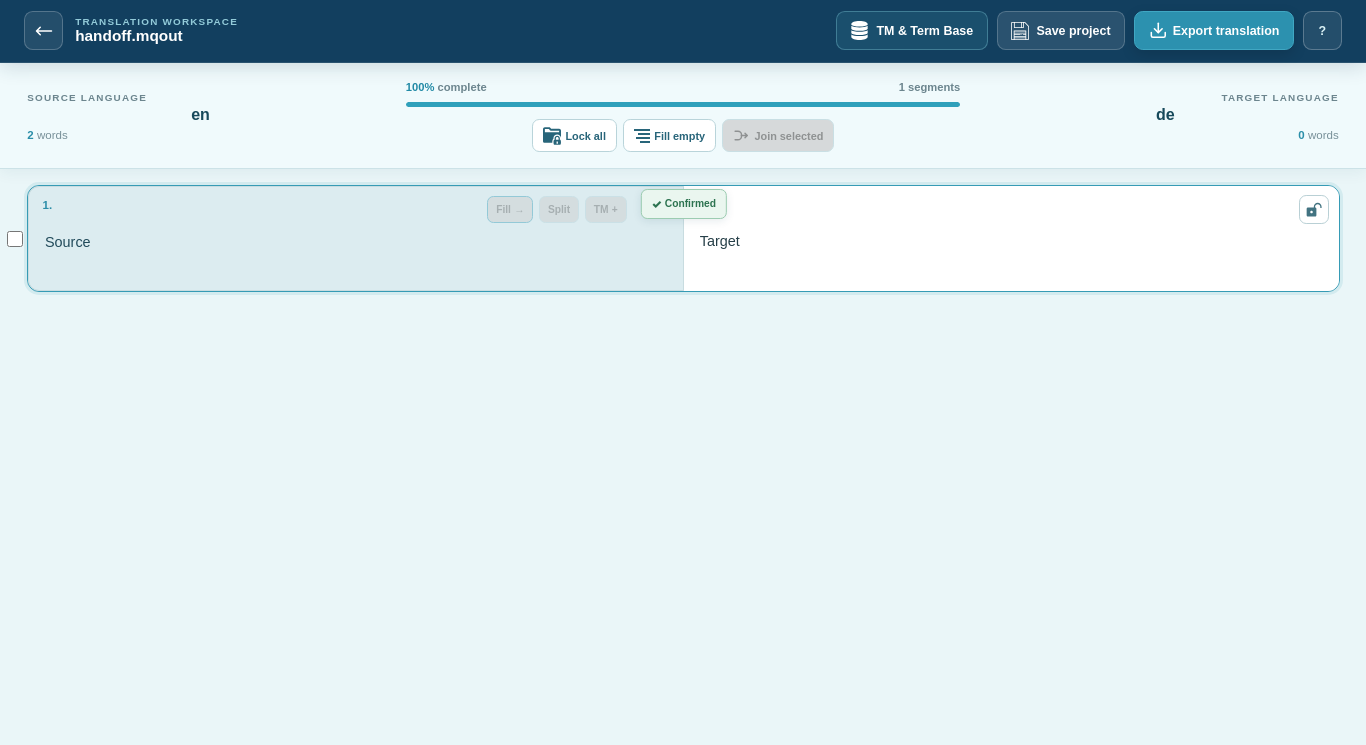
Test case: real CAT application route › shows the actual CAT return-package artifact in the export modal
The image size is (1366, 745).
Check: the element showing "Fill → Split TM + 1. Source Confirmed" is shown, box [27,185,1341,292]
Click the button "Export translation".
click(1214, 31)  # box [1134,11,1294,50]
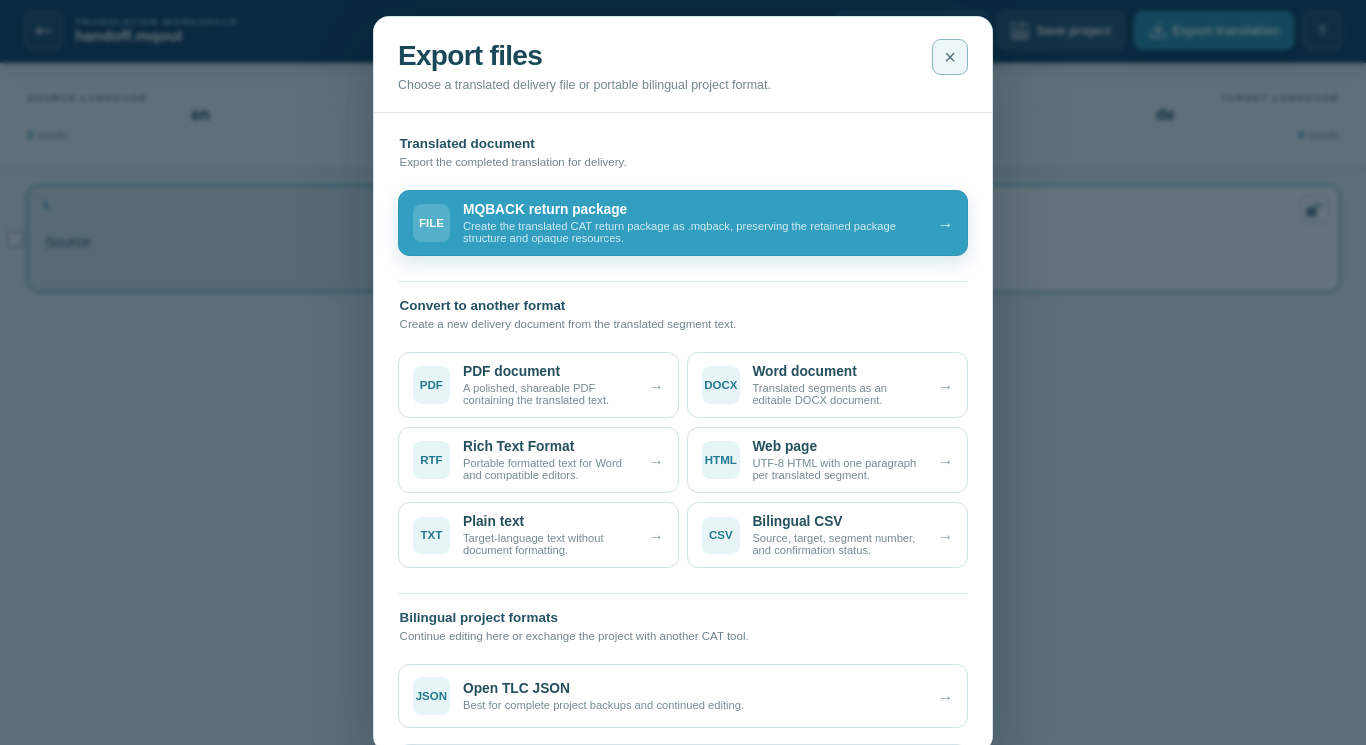
Check: the text "Export files" is shown, box [398,40,542,71]
Check: the button with class "modal-action-card" shows "MQBACK return package", box [398,190,968,256]
Check: the button with class "modal-action-card" shows ".mqback", box [398,190,968,256]
